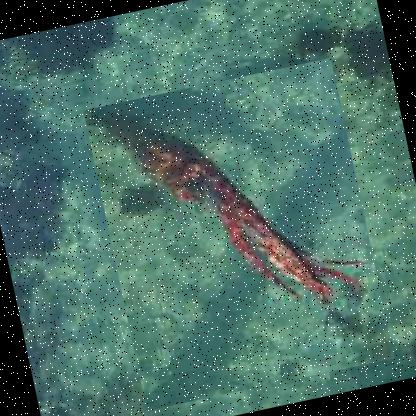colossal_squid: (82, 58, 394, 412)
